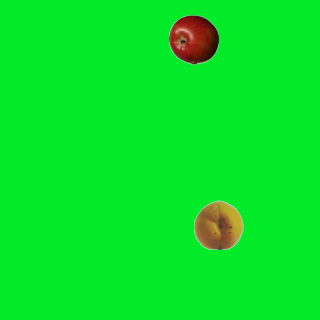Apple Braeburn: (168, 14, 218, 64)
Peach 2: (193, 199, 243, 249)
